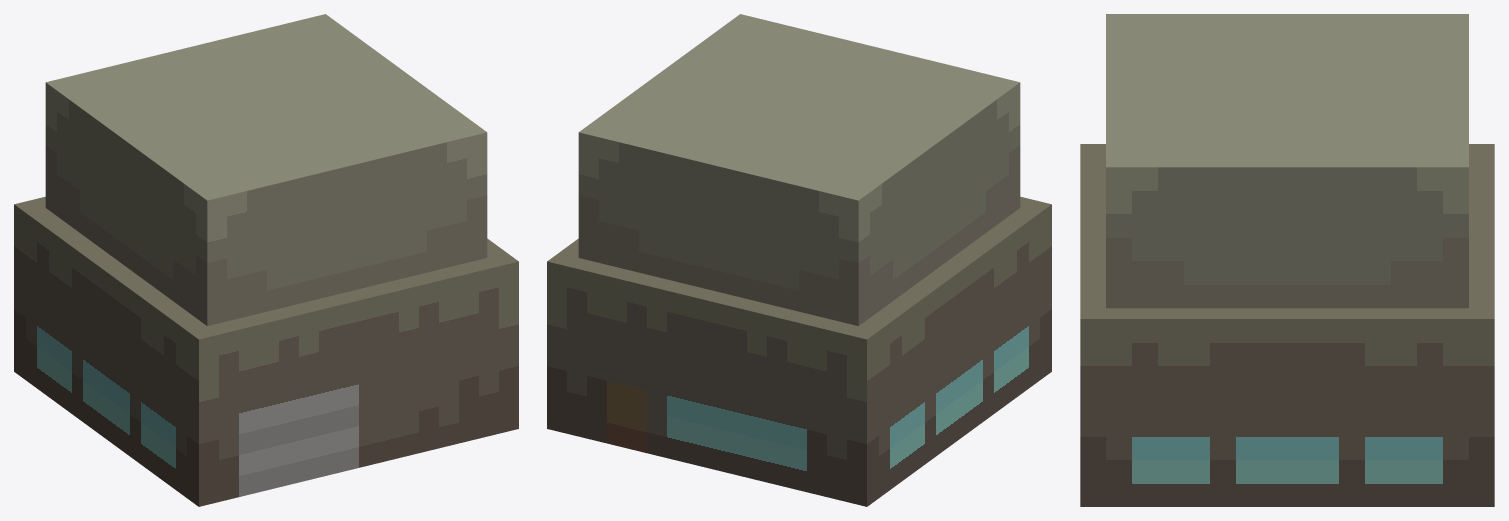
File: ShortBuilding.fbx
The picture shows the model from 3 angles, left to right: view 1: azimuth 30°, elevation 25°; view 2: azimuth 150°, elevation 25°; view 3: azimuth 270°, elevation 25°; orthographic projection. The views are drawn at different scales.
Visible parts, largest first — view 1: mesh_1, mesh; view 2: mesh_1, mesh; view 3: mesh_1, mesh.
Boxes of the visible parts, left/top/right/bottom form: mesh_1: left=45, top=14, right=487, bottom=325; mesh: left=14, top=196, right=518, bottom=506; mesh_1: left=578, top=14, right=1020, bottom=325; mesh: left=547, top=196, right=1051, bottom=506; mesh_1: left=1106, top=14, right=1468, bottom=308; mesh: left=1080, top=144, right=1494, bottom=506.
Bounding box in the file's own units: 100 × 87.5 × 100.
Materials: 1 (1 with a texture image).
